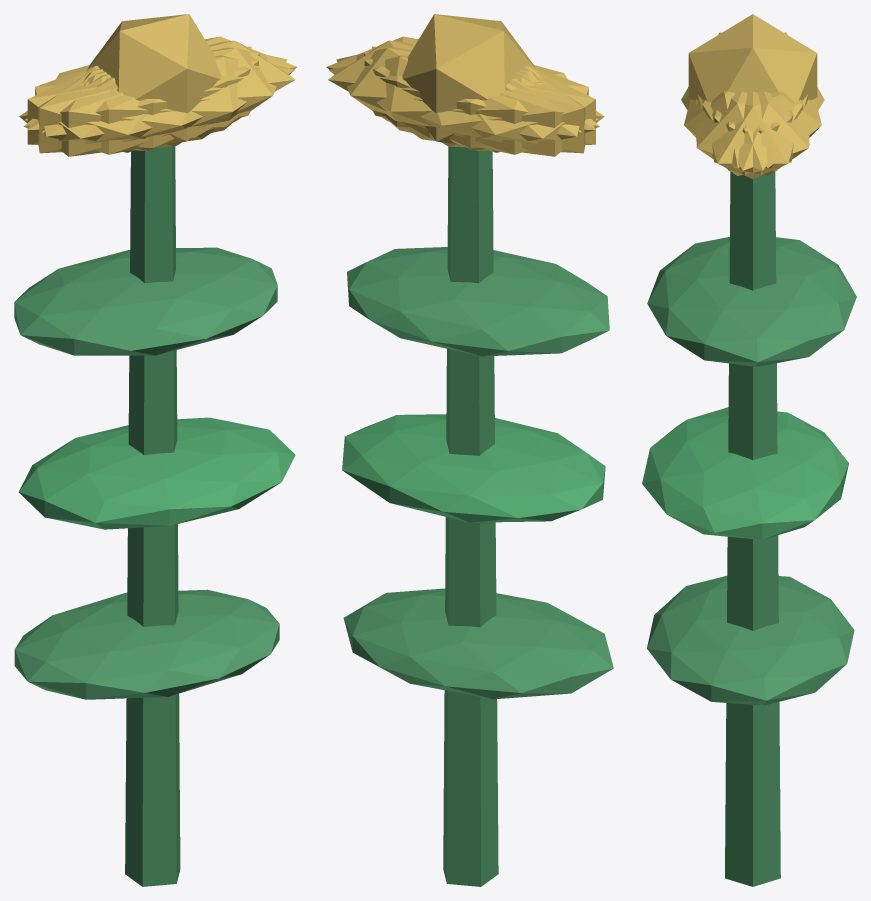
The model's file is antidesma-bunius.glb.
3 views of the same model, side by side, from view 1: azimuth 30°, elevation 25°; view 2: azimuth 150°, elevation 25°; view 3: azimuth 270°, elevation 25° (orthographic).
Parts seen in each view (by area): view 1: stem, leaf1, leaf2, leaf0, center, petal1, petal6, petal2, petal5, petal7, petal0, petal4 (+2 smaller); view 2: stem, leaf2, leaf0, leaf1, center, petal8, petal3, petal7, petal4, petal2, petal0, petal5 (+2 smaller); view 3: stem, leaf2, leaf1, leaf0, center, petal0, petal4, petal5, petal8, petal1.
Boxes of the visible parts, x1,y1,x2,y2 form: stem: [125, 146, 180, 886]; leaf1: [18, 417, 295, 529]; leaf2: [14, 247, 277, 355]; leaf0: [14, 589, 279, 699]; center: [87, 14, 221, 143]; petal1: [23, 55, 294, 154]; petal6: [19, 67, 215, 156]; petal2: [38, 46, 251, 153]; petal5: [42, 47, 286, 147]; petal7: [27, 52, 259, 150]; petal0: [87, 40, 295, 138]; petal4: [25, 36, 296, 130]; stem: [443, 146, 498, 886]; leaf2: [347, 247, 609, 356]; leaf0: [343, 588, 613, 699]; leaf1: [342, 414, 605, 522]; center: [402, 14, 535, 143]; petal8: [329, 55, 599, 154]; petal3: [408, 67, 604, 156]; petal7: [371, 46, 585, 153]; petal4: [336, 47, 581, 147]; petal2: [364, 52, 595, 150]; petal0: [328, 40, 535, 138]; petal5: [326, 36, 598, 130]; stem: [725, 171, 780, 886]; leaf2: [647, 237, 856, 366]; leaf1: [642, 407, 848, 539]; leaf0: [647, 575, 854, 705]; center: [688, 14, 817, 101]; petal0: [697, 91, 807, 178]; petal4: [702, 91, 809, 175]; petal5: [696, 91, 803, 175]; petal8: [712, 91, 821, 168]; petal1: [684, 91, 793, 168].
Size of the model in its own units: 0.1497 by 0.4432 by 0.1023.
